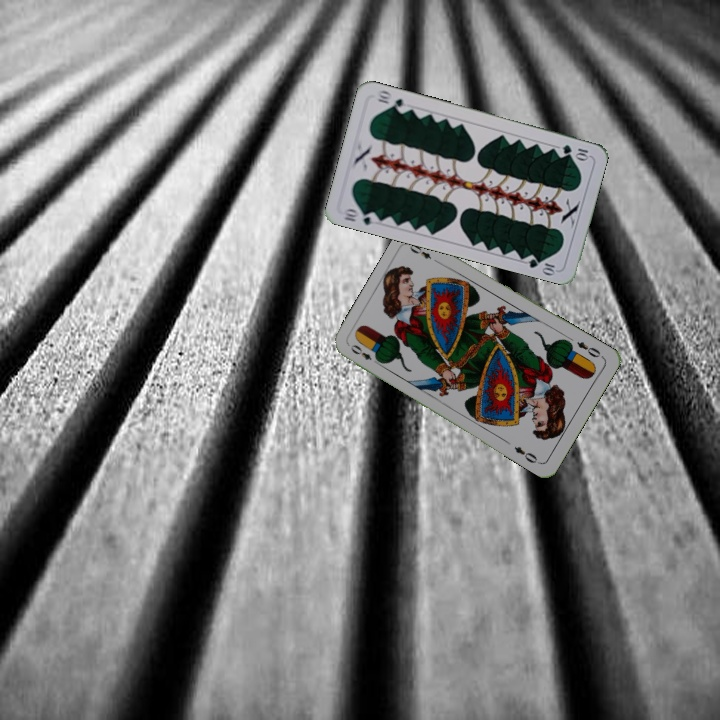EO: (346, 340, 383, 367), (573, 337, 603, 360)
G10: (339, 204, 380, 228), (558, 140, 592, 162)
